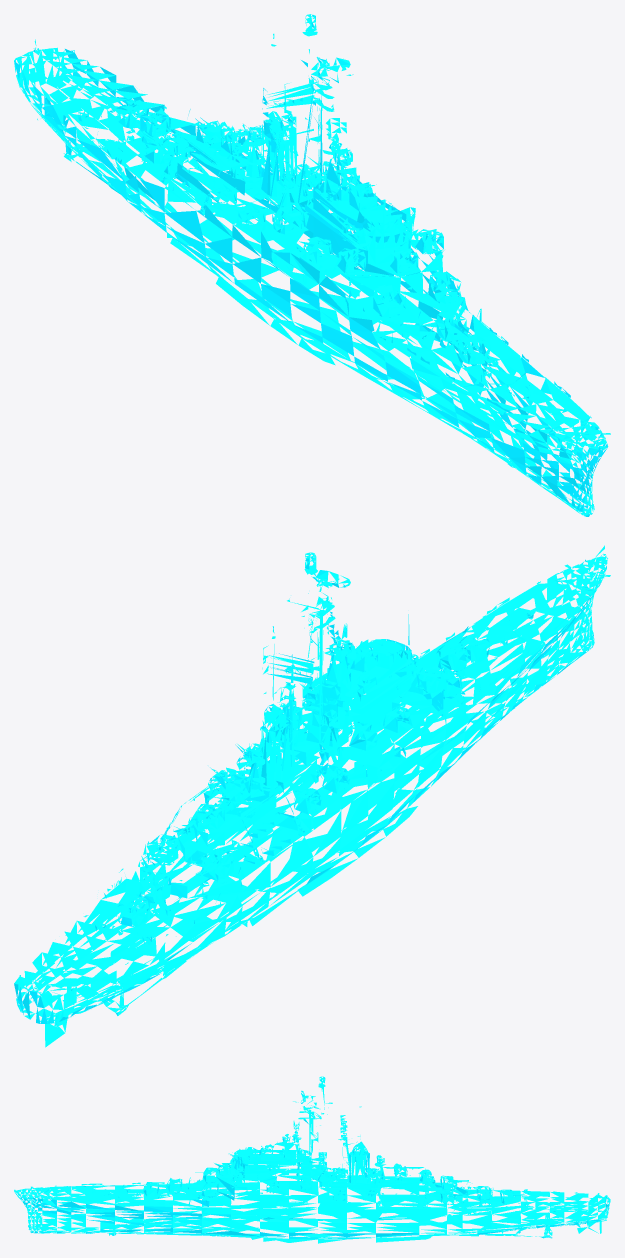
The model's file is Colbert.glb.
The picture shows the model from 3 angles, top to bottom: view 1: azimuth 30°, elevation 25°; view 2: azimuth 150°, elevation 25°; view 3: azimuth 270°, elevation 25°; orthographic projection. The views are drawn at different scales.
Size of the model in its own units: 1.45 by 3.53 by 12.01.
